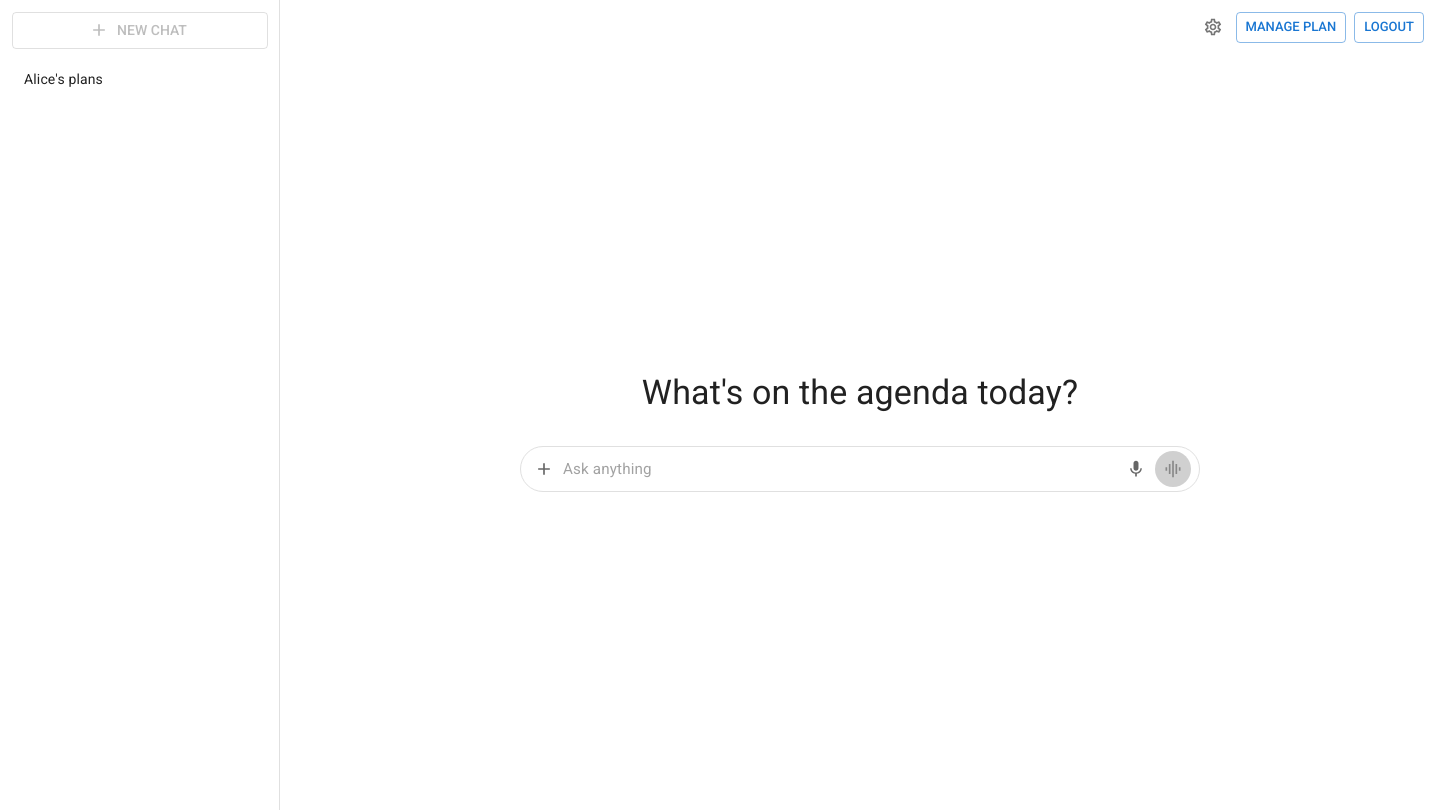
Test: never shows the previous user's conversations to the next one in the same tab
Expected: the text "Alice's plans" is shown, top-left (24, 70), bottom-right (103, 86)
Click the button "Logout" at (1389, 27), box top-left (1354, 12), bottom-right (1424, 43)
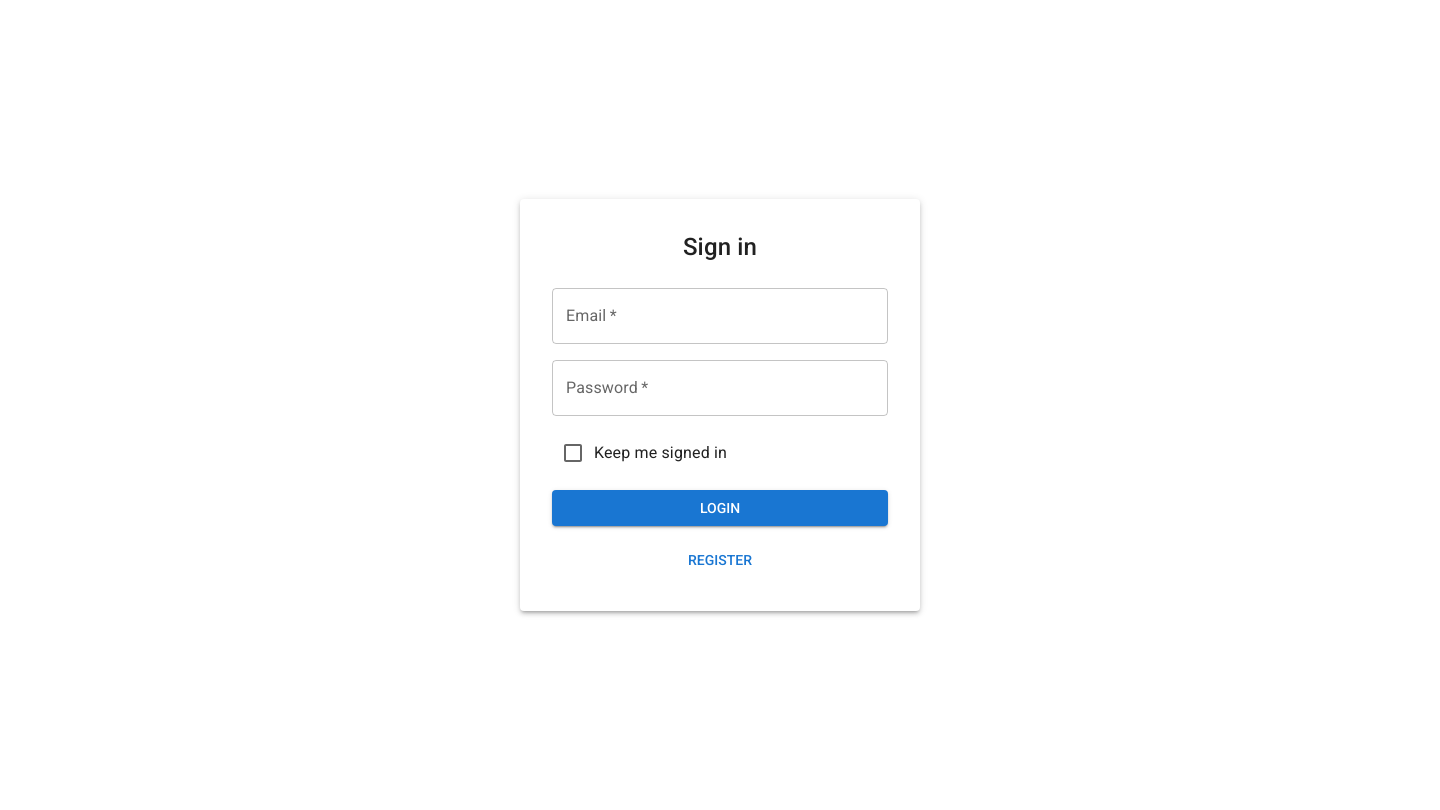
Expected: the field labelled "Email *" is shown
Expected: the button "Alice's plans" is gone
Type "bob@test.com" into the field labelled "Email *" at (720, 316), box top-left (552, 288), bottom-right (888, 344)
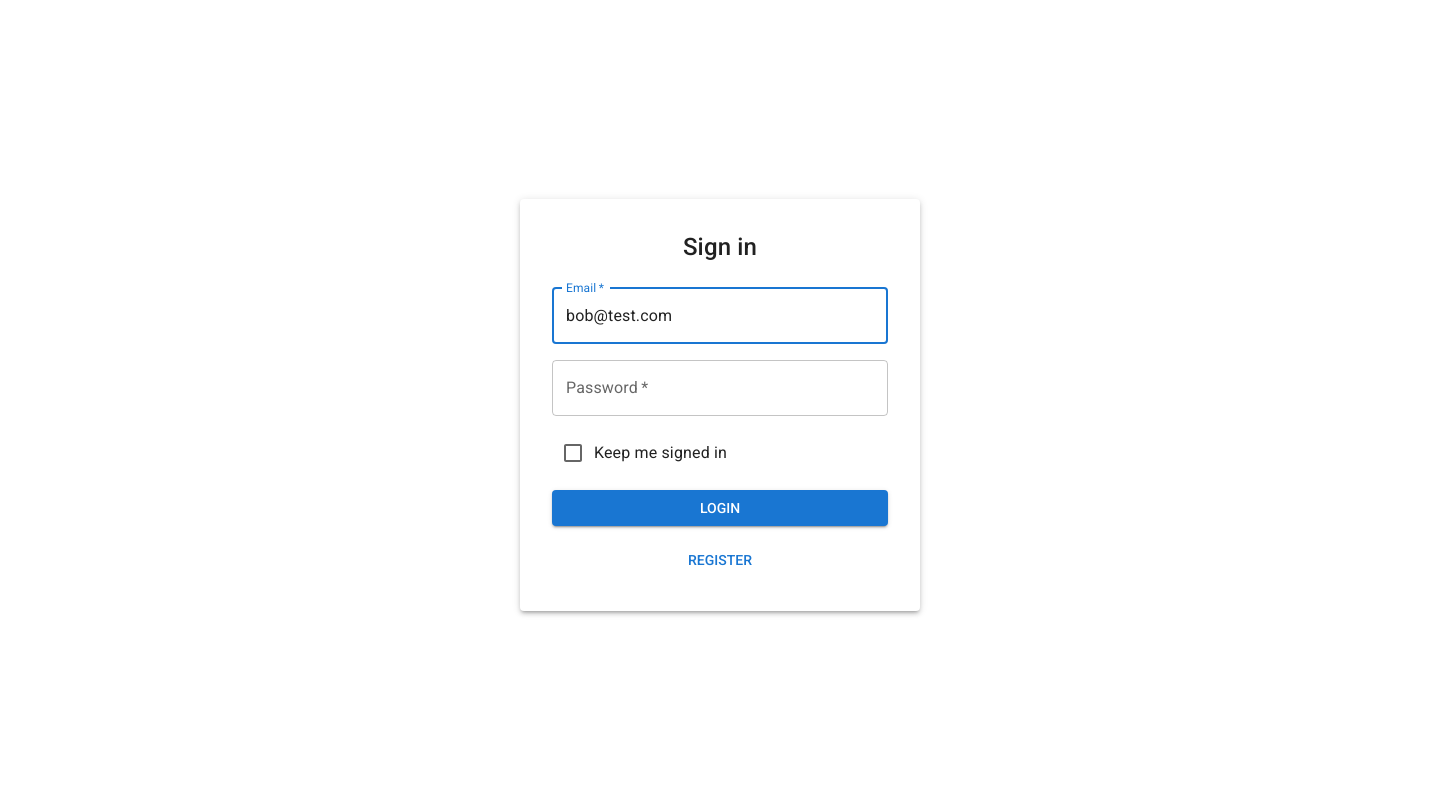
Type "Password123" into the password field labelled "Password *" at (720, 388), box top-left (552, 360), bottom-right (888, 416)
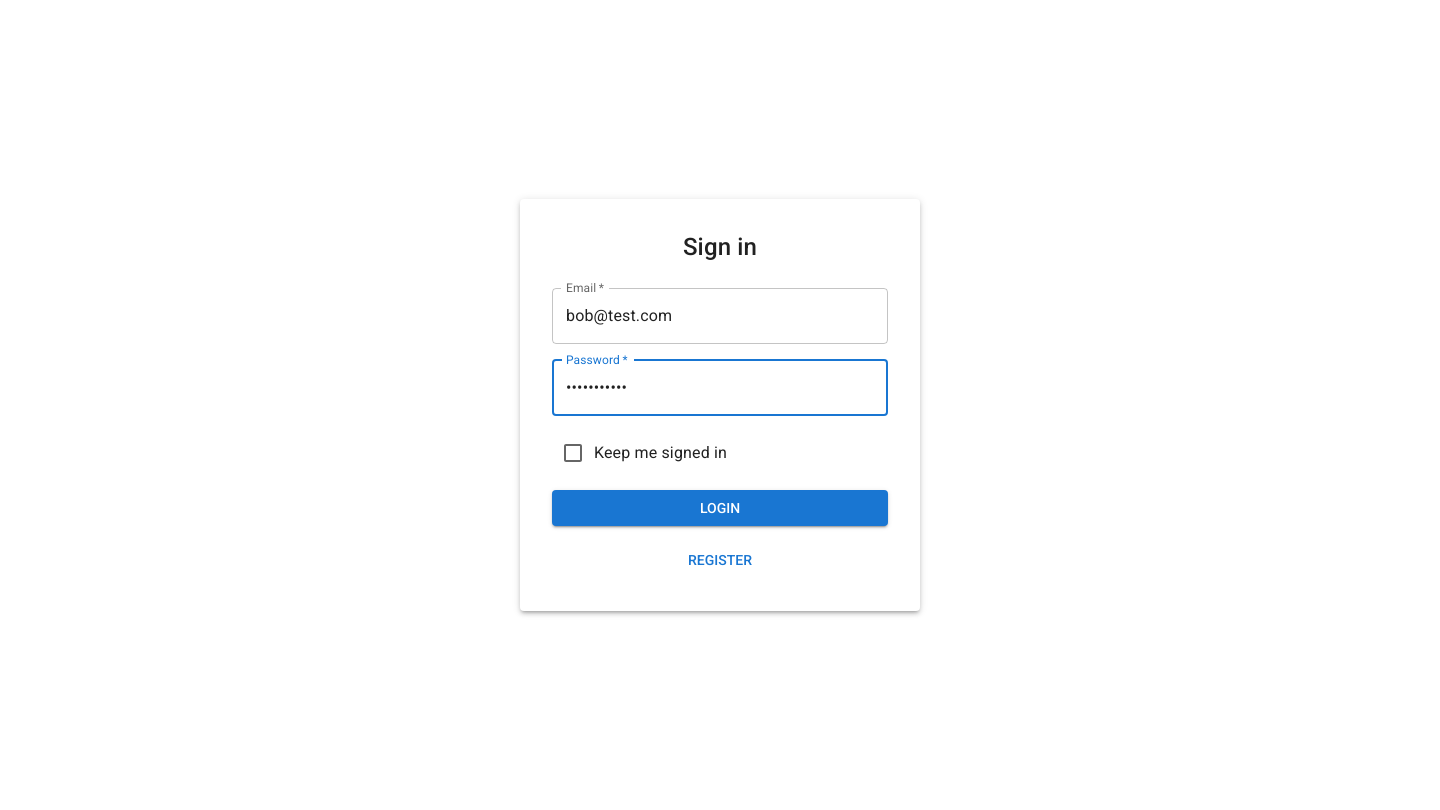
Click the button "Login" at (720, 508), box top-left (552, 490), bottom-right (888, 526)
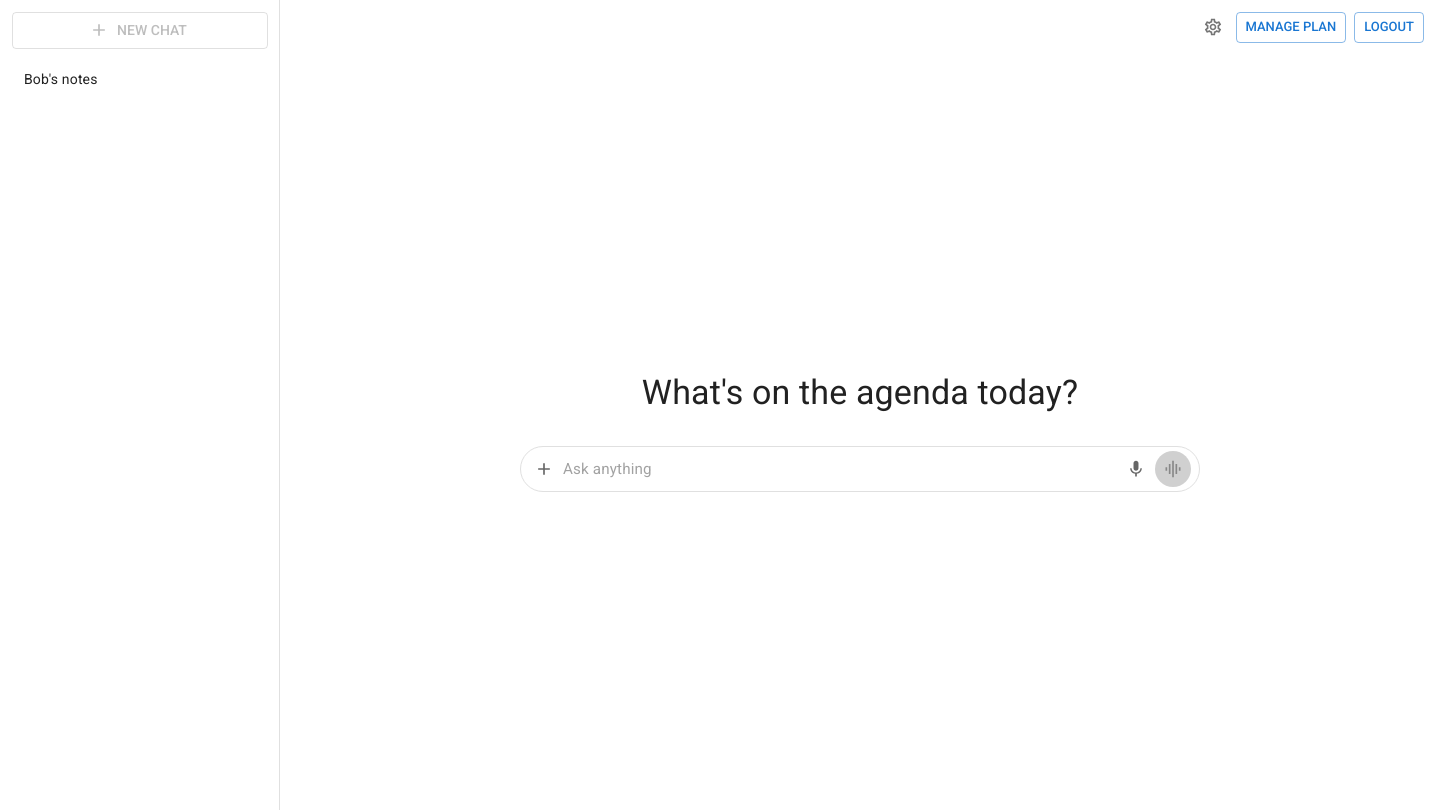
Expected: the button "Alice's plans" is not shown
Expected: the field is shown, top-left (563, 454), bottom-right (1121, 485)
Expected: the text "Bob's notes" is shown, top-left (24, 70), bottom-right (98, 86)
